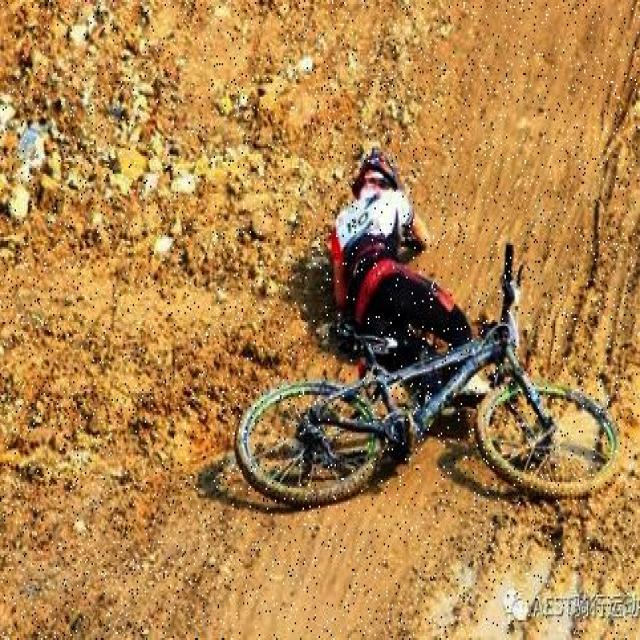fall: (320, 152, 470, 377)
